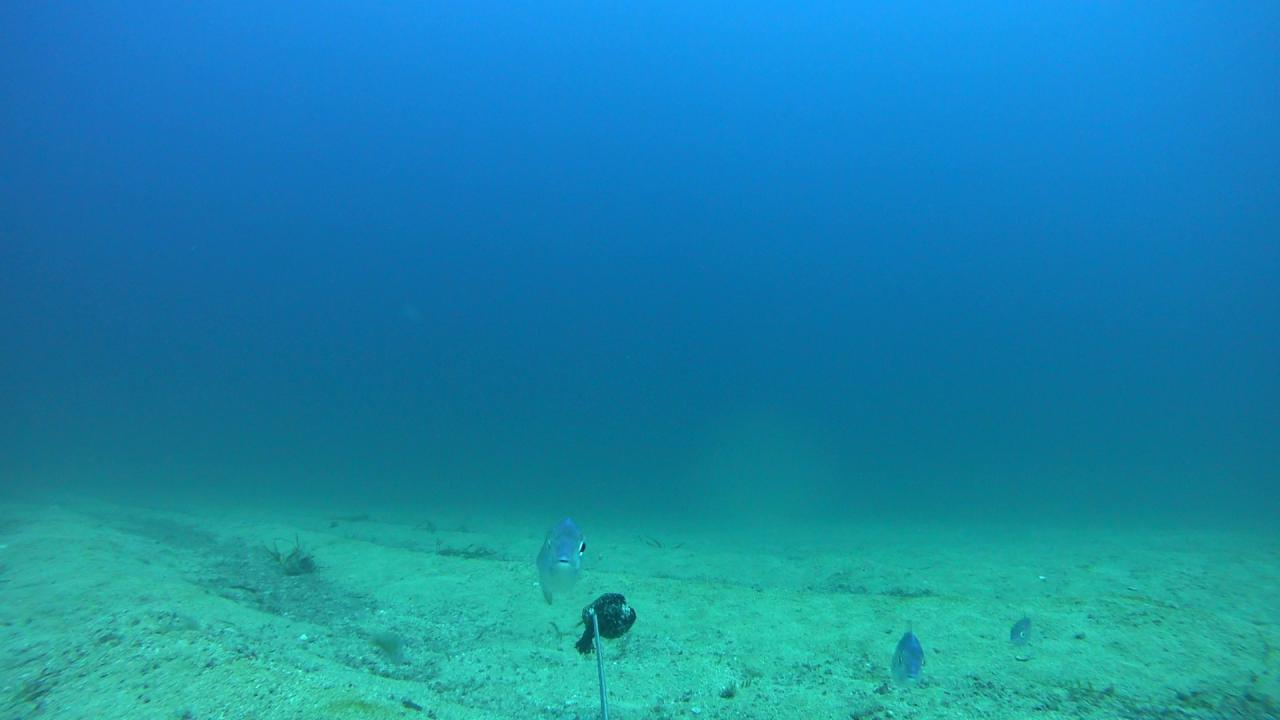pagellus: (534, 517, 586, 605), (888, 630, 925, 688), (1010, 615, 1031, 647)
raor: (364, 622, 408, 670)
